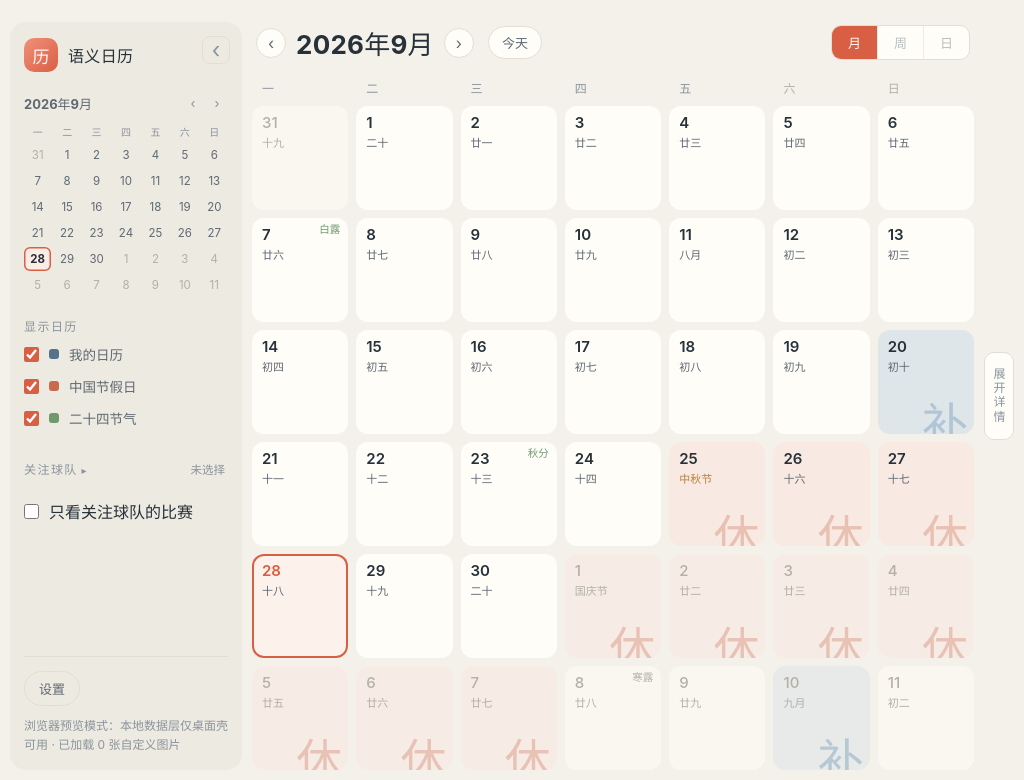
ICS / WebCal 订阅（SC-007 / SRC-002 / SRC-003 / SRC-004） › 预览模式下订阅给出降级提示，不发起网络请求
The image size is (1024, 780).
Expected: the text "浏览器预览模式：本地数据层仅桌面壳可用 · 已加载 0 张自定义图片" is shown, [24,716,228,754]
Click the button "设置" at (52, 688), box [24,671,80,706]
(page scrolled)
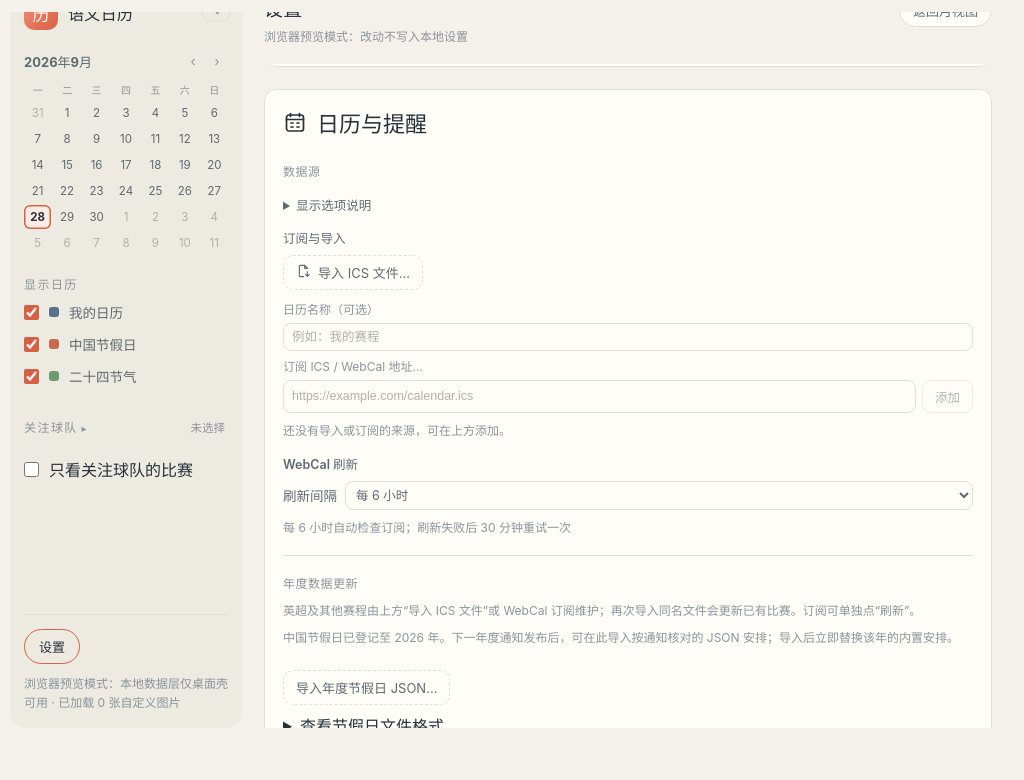
Type "https://calendar.example.com/feed.ics?token=SECRET-TOKEN" into the field labelled "订阅 ICS / WebCal 地址…" at (600, 396), box [283,380,916,413]
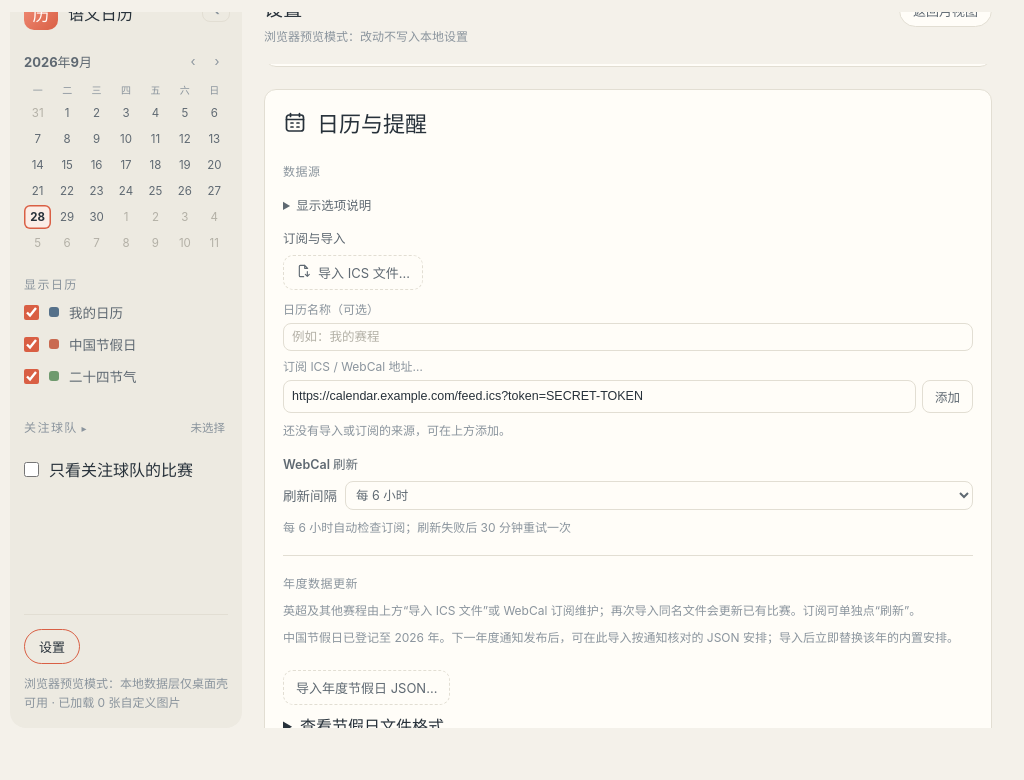
Click the button "添加" at (948, 396), box [922,380,973,413]
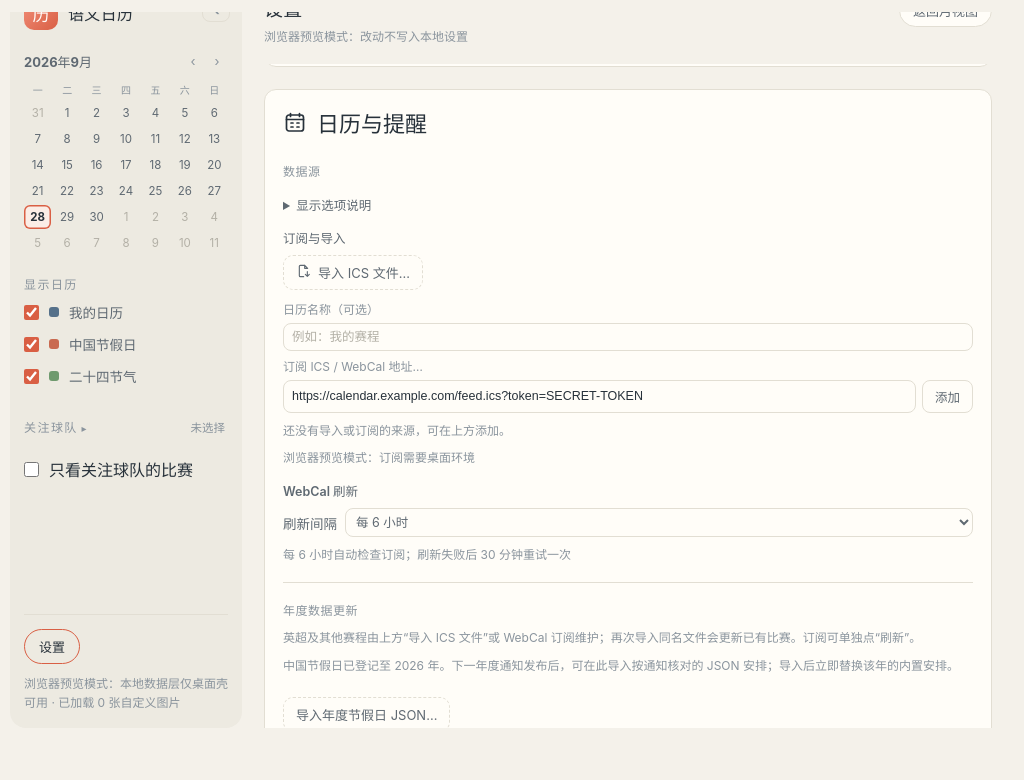
Result: the text "浏览器预览模式：订阅需要桌面环境" is shown at [283,450,475,465]
